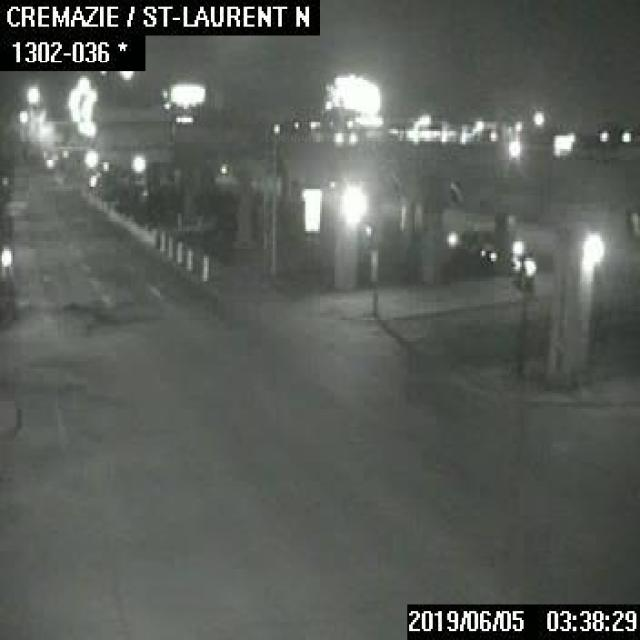construction: (199, 253, 208, 281), (184, 245, 193, 272), (174, 238, 182, 263), (166, 234, 173, 256), (158, 229, 164, 251)
